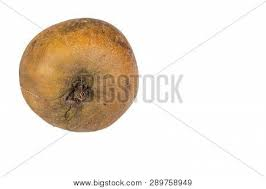damaged_apple: (22, 23, 136, 132)
